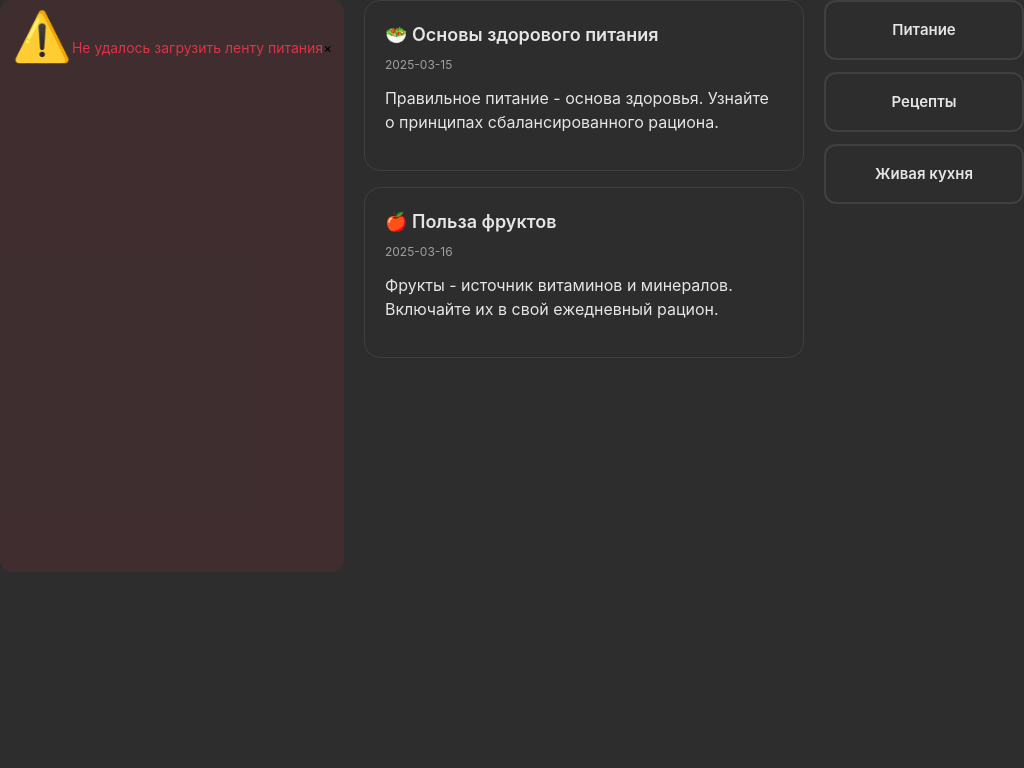
Test: NutritionFeed › shows error message component when error is set
This screenshot has width=1024, height=768.
Expected: the text "Не удалось загрузить ленту питания" is shown, [72,39,323,56]
# Click close button on error
Click the button "×" at (328, 48), box [323,40,332,56]
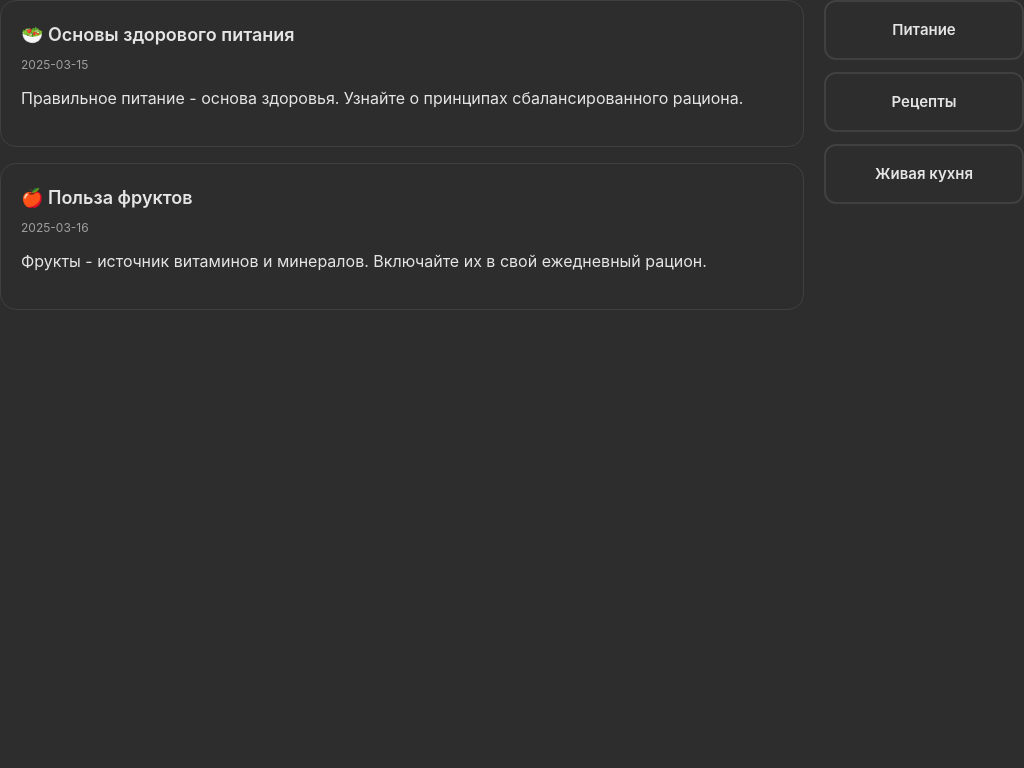
Result: the text "Не удалось загрузить ленту питания" is gone
